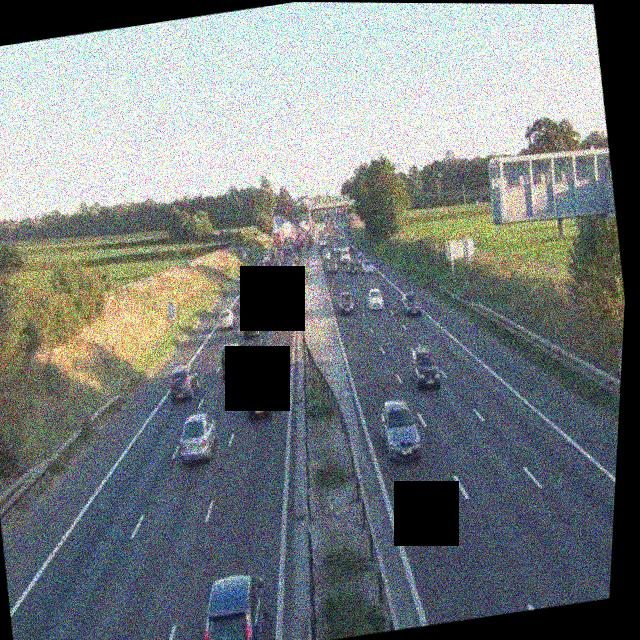car: (193, 571, 275, 640), (375, 396, 426, 464), (173, 409, 223, 466), (241, 364, 278, 420), (406, 345, 443, 391), (166, 365, 203, 403), (216, 340, 247, 381), (399, 289, 423, 316), (240, 312, 263, 339), (337, 289, 357, 317), (274, 293, 294, 321), (364, 286, 384, 311), (246, 292, 264, 316), (216, 309, 236, 330), (348, 255, 363, 274), (275, 275, 291, 292), (243, 276, 258, 294), (263, 271, 276, 288), (325, 259, 338, 275), (360, 258, 373, 273), (284, 263, 297, 276)
truck: (272, 221, 293, 253)
